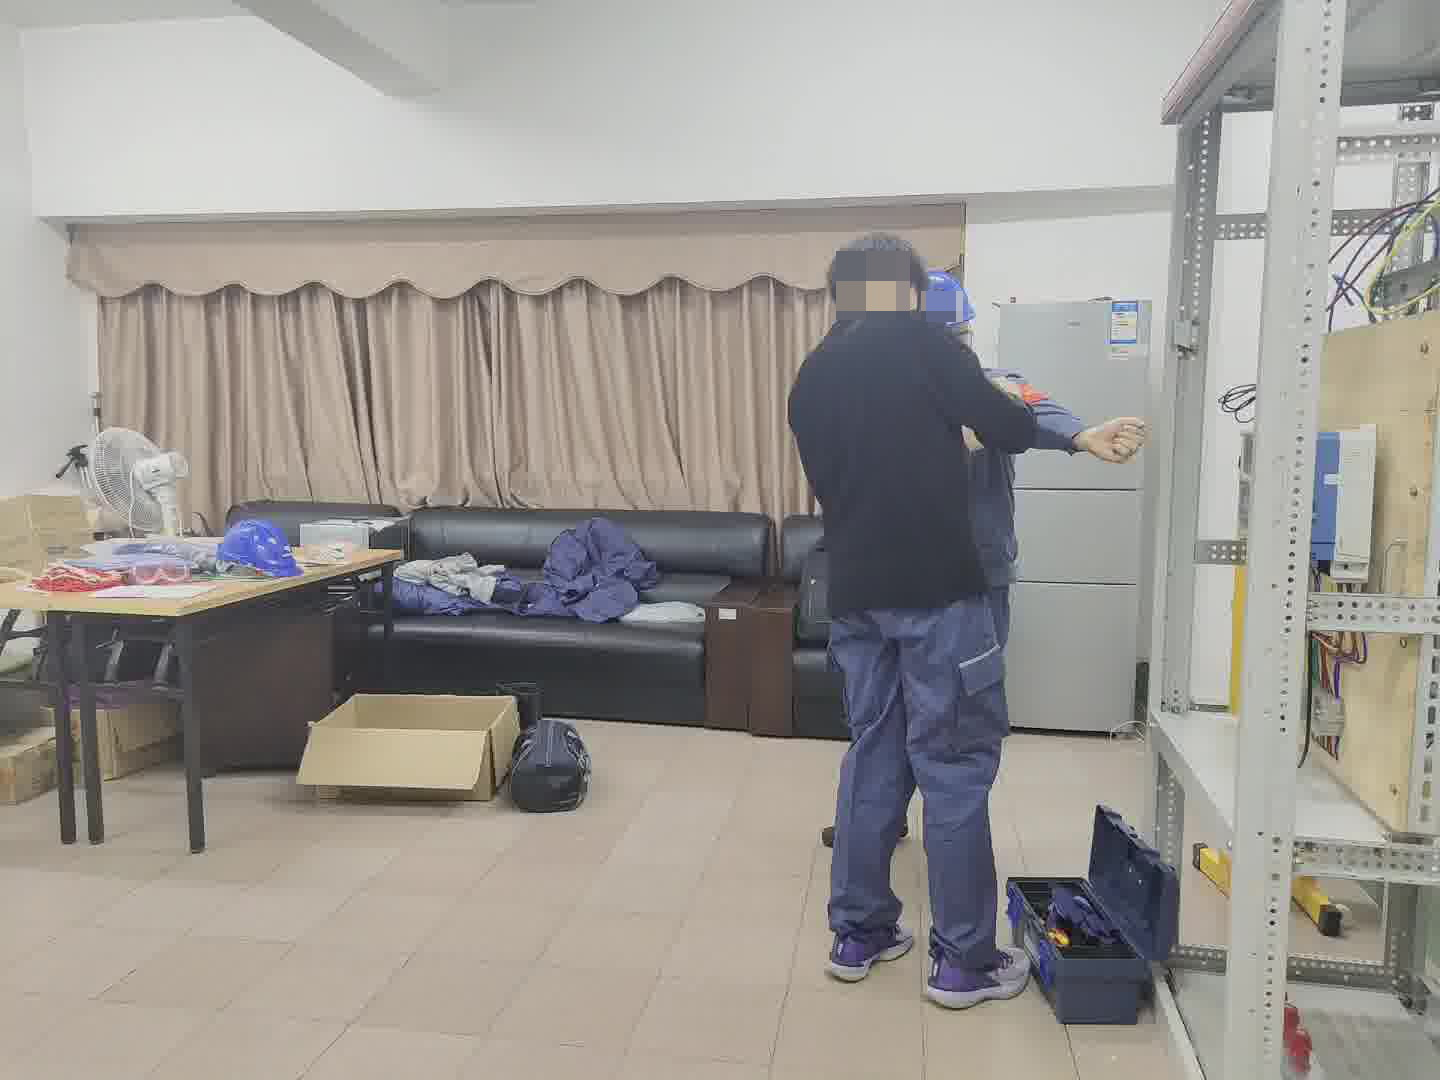downsuit: (818, 608, 1021, 972)
halt: (923, 271, 974, 340)
hand: (1073, 417, 1150, 460)
noear: (862, 257, 916, 304)
person: (787, 234, 1094, 1010)
unhalt: (828, 235, 925, 312)
upcloth: (785, 308, 1082, 591)
